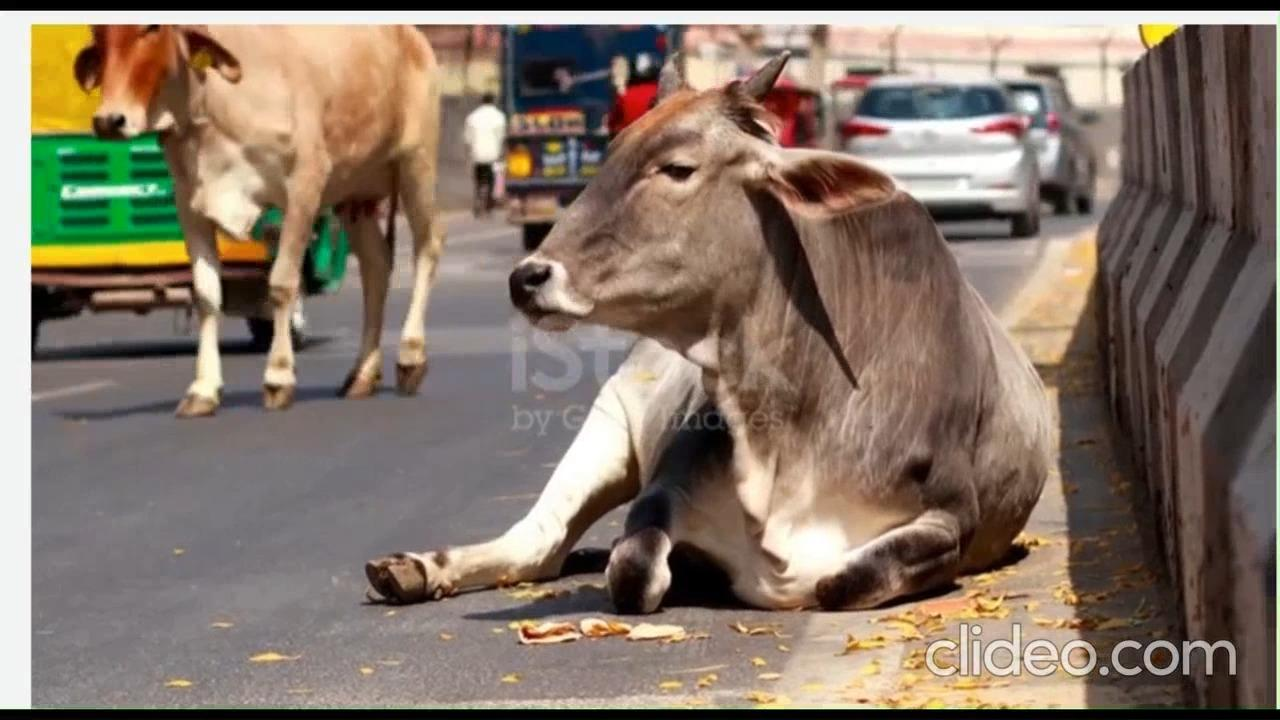Cow: (376, 40, 1064, 591), (72, 25, 462, 405)
